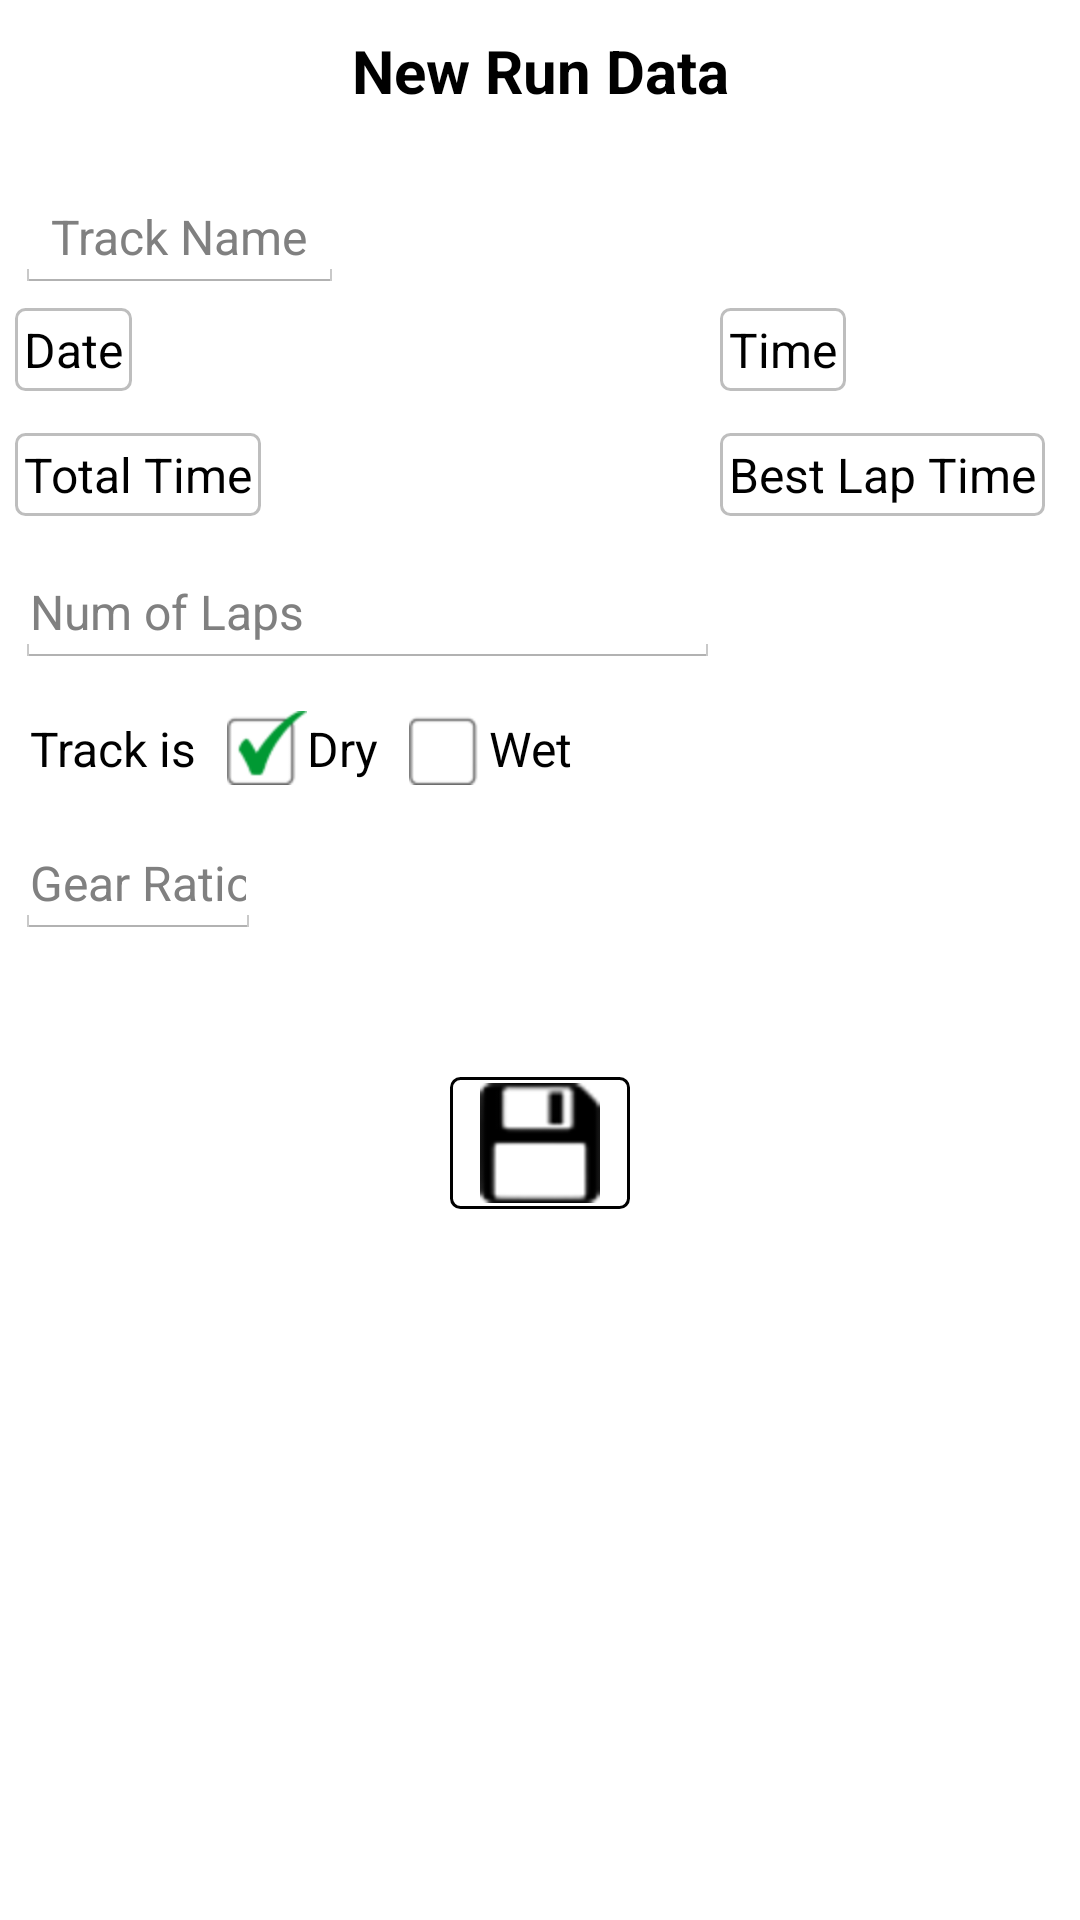

Named icons in this screenshot (1080 x 1920) and their bounding boxes, box(x1, y1, x2, y2):
save: box(450, 1077, 630, 1209)
